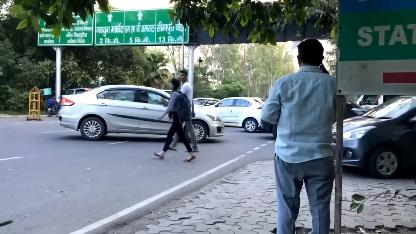car: (58, 79, 224, 145)
